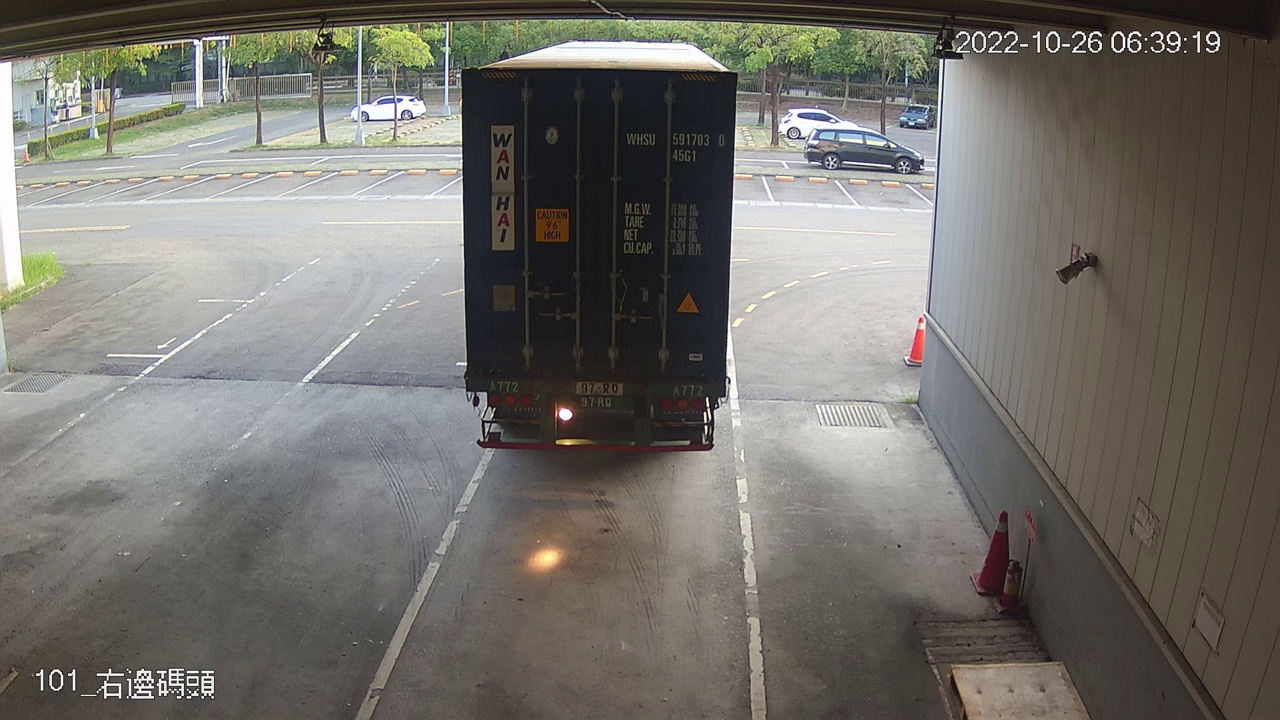container: (621, 127, 728, 166)
